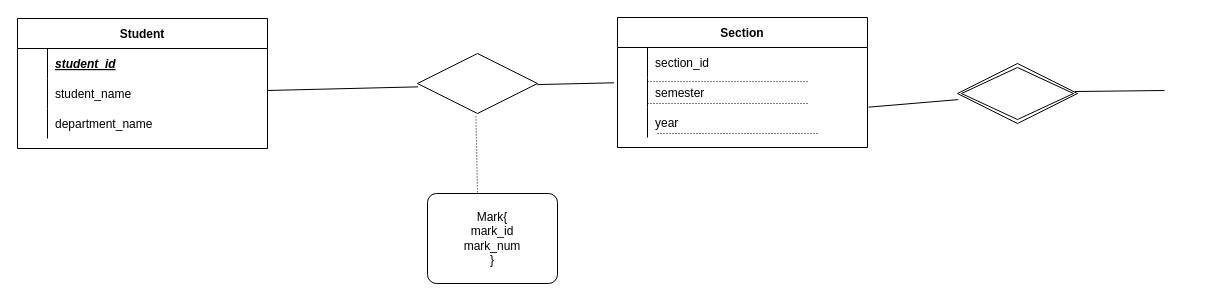
Image size: 1215x301. Some labels were removed from this diagram. Here are the shapes that lost their labels. From the top down, the box of each, then its label:
(416, 52, 538, 114): take
(956, 62, 1078, 124): link
